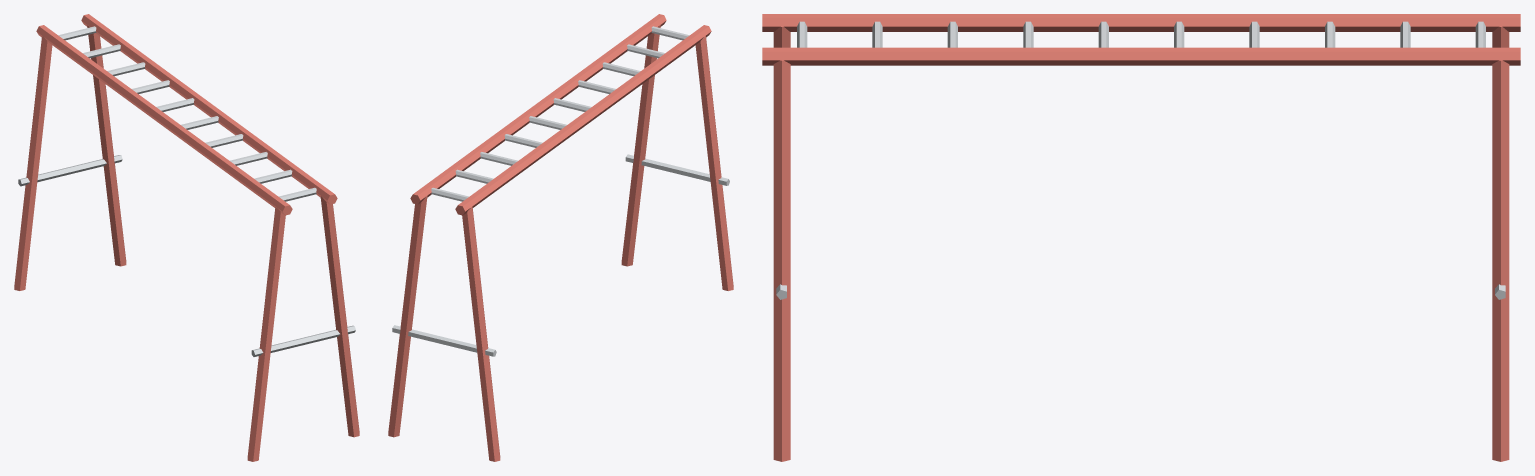
Rendered from 33654-Monkey-Bars-City-Park-and-Playground.glb.
3 renders of one model, left to right at view 1: azimuth 30°, elevation 25°; view 2: azimuth 150°, elevation 25°; view 3: azimuth 270°, elevation 25°, orthographic. The views are drawn at different scales.
Visible parts, largest first — view 1: monkey-bars-poppy, monkey-bars-steel; view 2: monkey-bars-poppy, monkey-bars-steel; view 3: monkey-bars-poppy, monkey-bars-steel.
Boxes of the visible parts, left/top/right/bottom form: monkey-bars-poppy: left=14, top=14, right=359, bottom=461; monkey-bars-steel: left=18, top=26, right=355, bottom=356; monkey-bars-poppy: left=388, top=14, right=733, bottom=461; monkey-bars-steel: left=392, top=26, right=729, bottom=356; monkey-bars-poppy: left=762, top=14, right=1520, bottom=461; monkey-bars-steel: left=776, top=21, right=1505, bottom=299.
Bounding box in the file's own units: 1 × 2.14 × 3.8.
